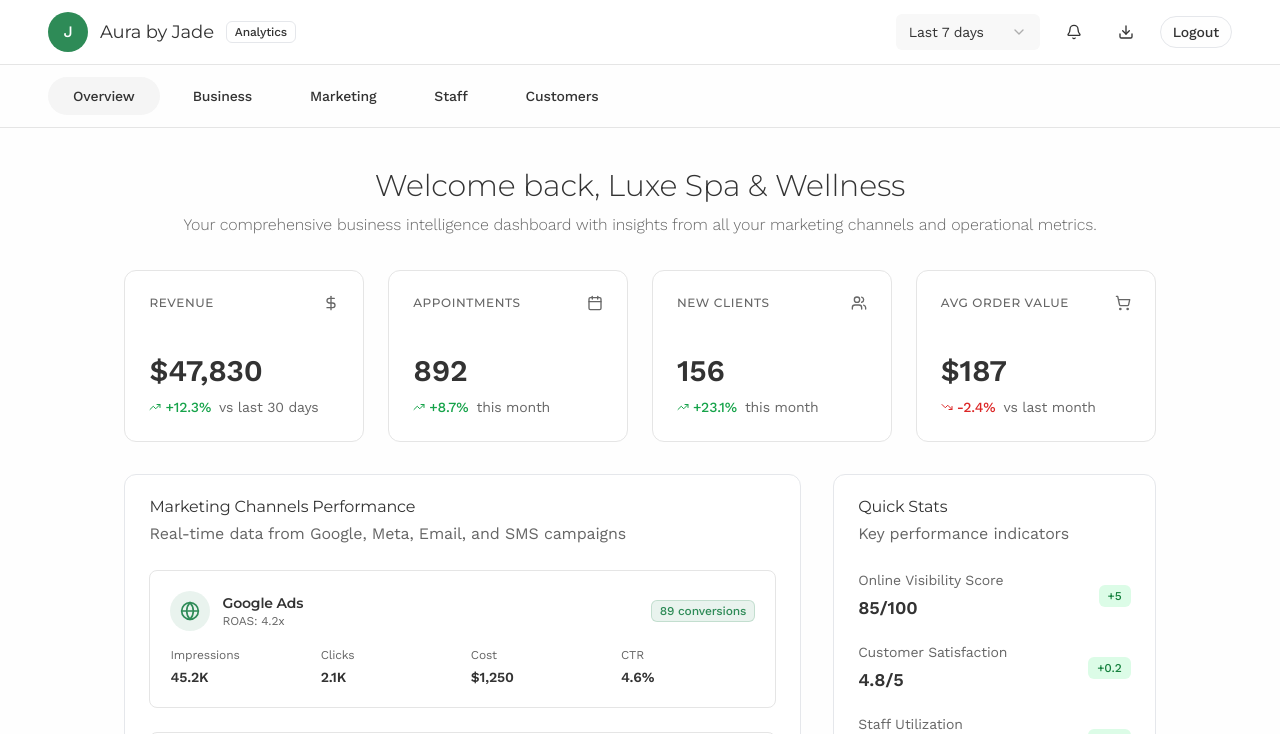
Test: AuraPage › Business Metrics Tab › shows all five service types in performance breakdown
Click the tab "Business".
click(222, 96)  # box 168,77 -> 277,115
(page scrolled)
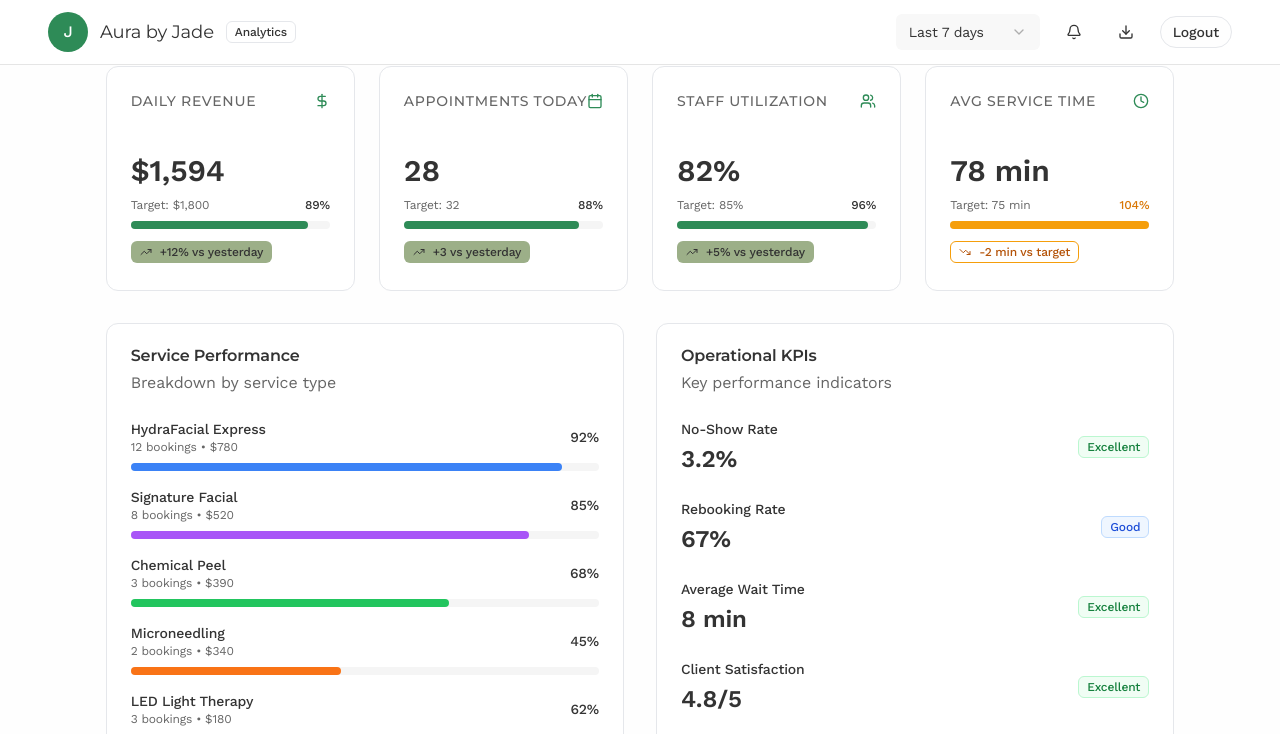
Check: the text "Signature Facial" is shown, box 131,489 -> 238,505
Check: the text "Chemical Peel" is shown, box 131,557 -> 226,573
Check: the text "LED Light Therapy" is shown, box 131,693 -> 253,709
